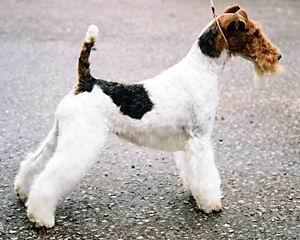wire-haired_fox_terrier: (13, 3, 285, 230)
